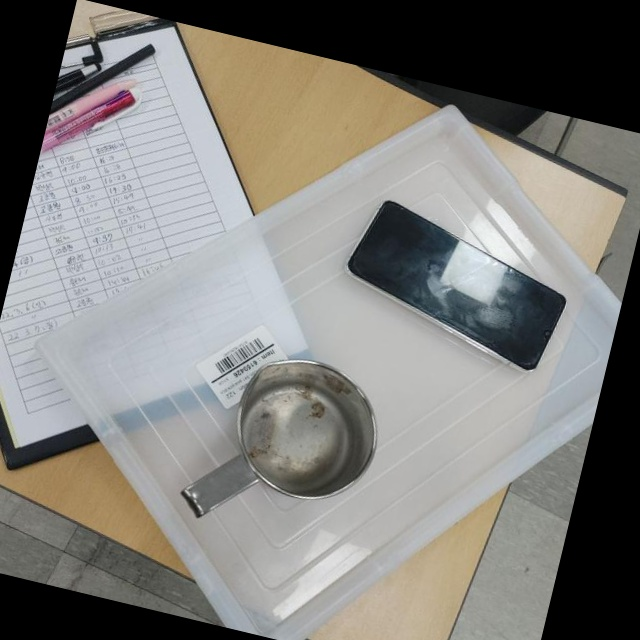cup: (177, 338, 394, 556)
phone: (333, 195, 579, 378)
